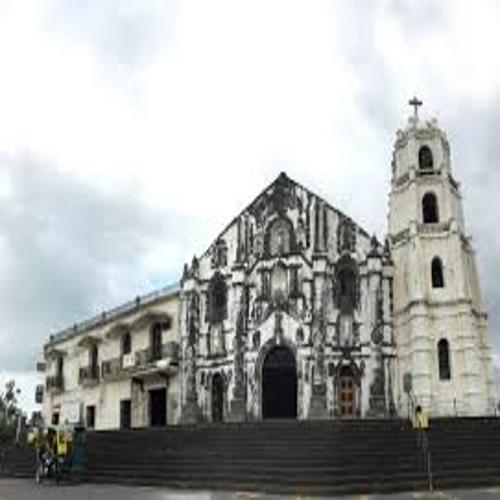Daraga Church: (179, 90, 500, 419)
